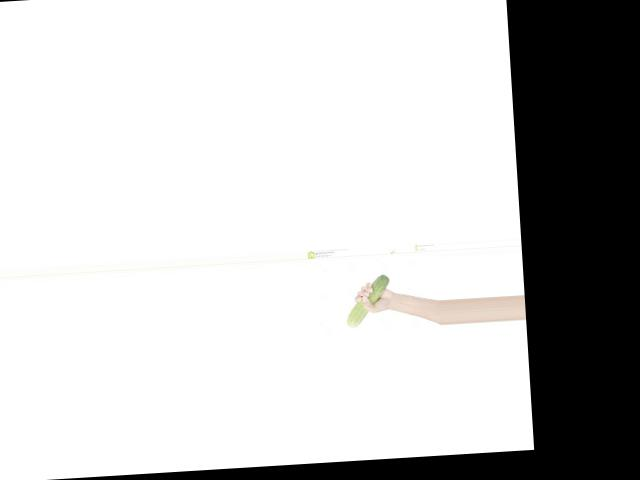cucumber: (344, 273, 393, 327)
